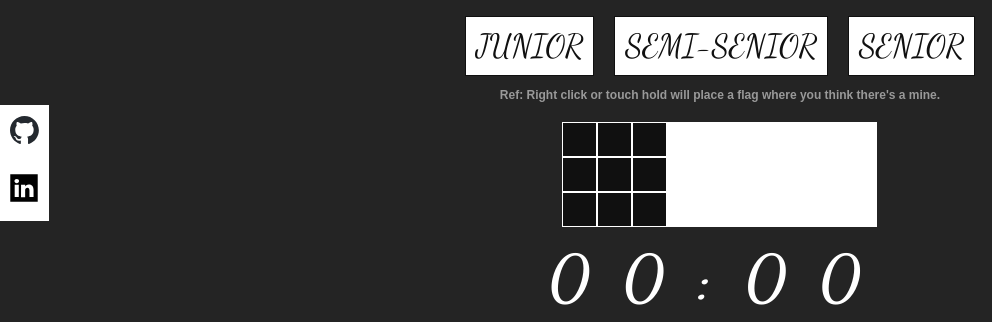
MineSweeper › Game › should remove a flag when right click on a cell with a flag
Click the 1st element with class "cell".
click(580, 139)  # box [562,122,598,156]
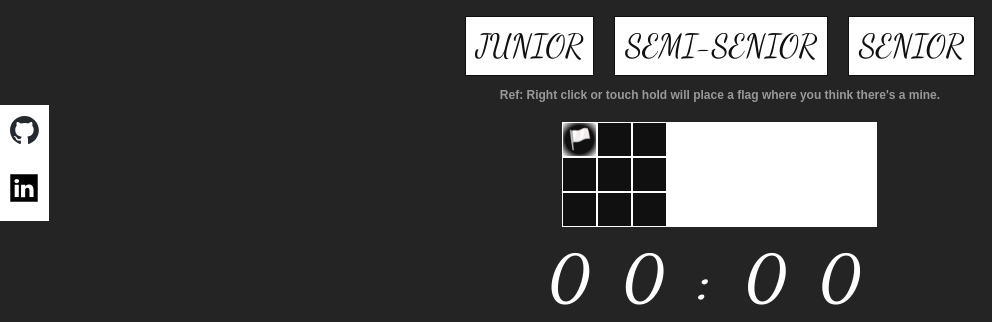
Click the element with class "cell" showing "🏳️".
click(580, 139)  # box [562,122,598,156]
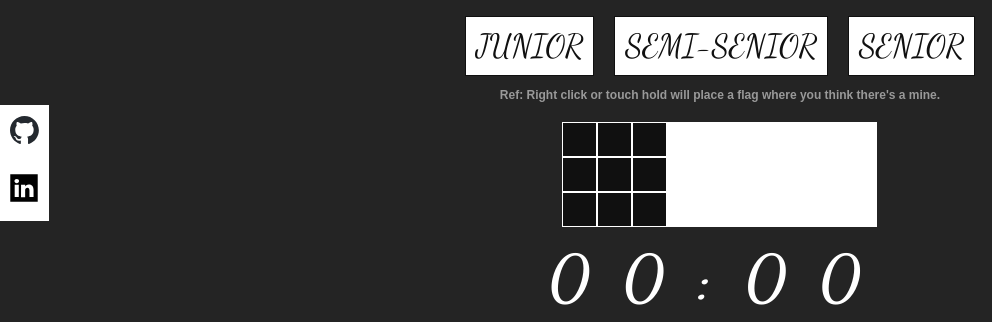
Expected: no elements with class "flag" are shown
